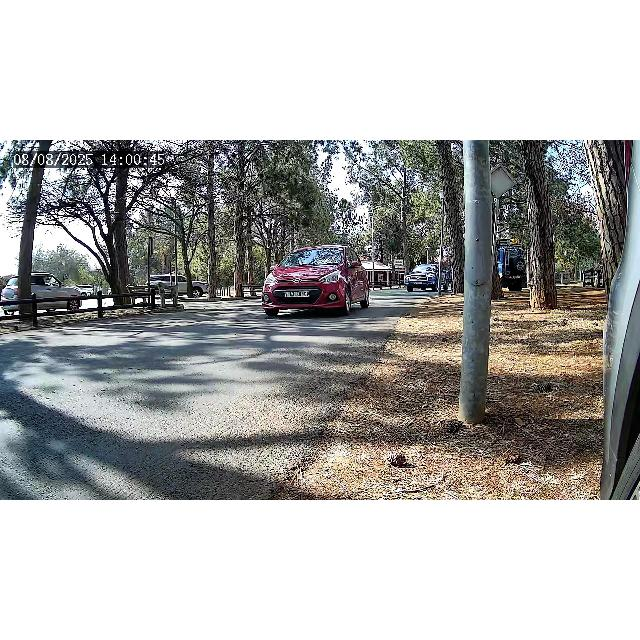car: (260, 244, 372, 318), (0, 272, 84, 320), (146, 272, 208, 298)
plate: (282, 290, 310, 298)
